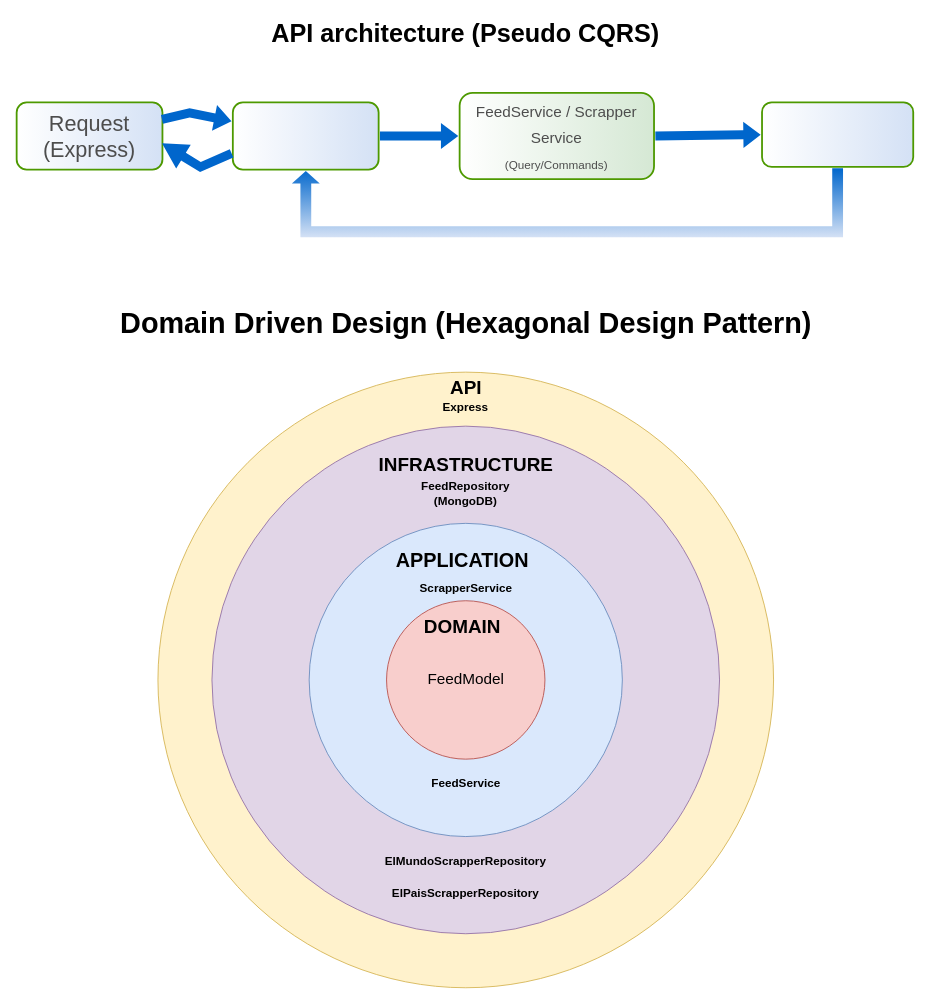
Some shapes in this 930 by 1004 pixel diagram are drawn without their labels. Each missing label, with the centre of its shape:
"Controller (Exception & Error handler)" belongs at (305,135).
"Data Repositories (Moongose)" belongs at (837,134).
